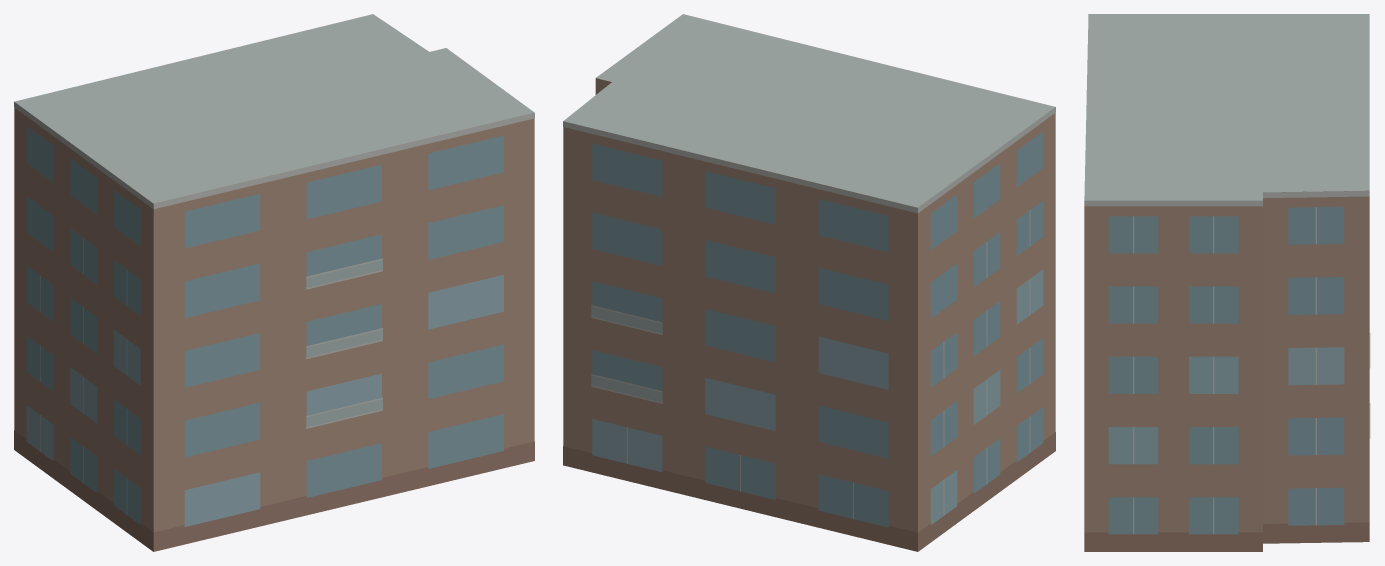
The model's file is survey-upis-33009136.glb.
3 views of the same model, side by side, from view 1: azimuth 30°, elevation 25°; view 2: azimuth 150°, elevation 25°; view 3: azimuth 270°, elevation 25° (orthographic). The views are drawn at different scales.
Parts seen in each view (by area): view 1: survey-upis-33009136.tmp; view 2: survey-upis-33009136.tmp; view 3: survey-upis-33009136.tmp.
Boxes of the visible parts, x1,y1,x2,y2 form: survey-upis-33009136.tmp: (14,14,534,551); survey-upis-33009136.tmp: (563,14,1055,551); survey-upis-33009136.tmp: (1084,14,1370,551).
Bounding box in the file's own units: 17 × 14.9 × 11.02.
